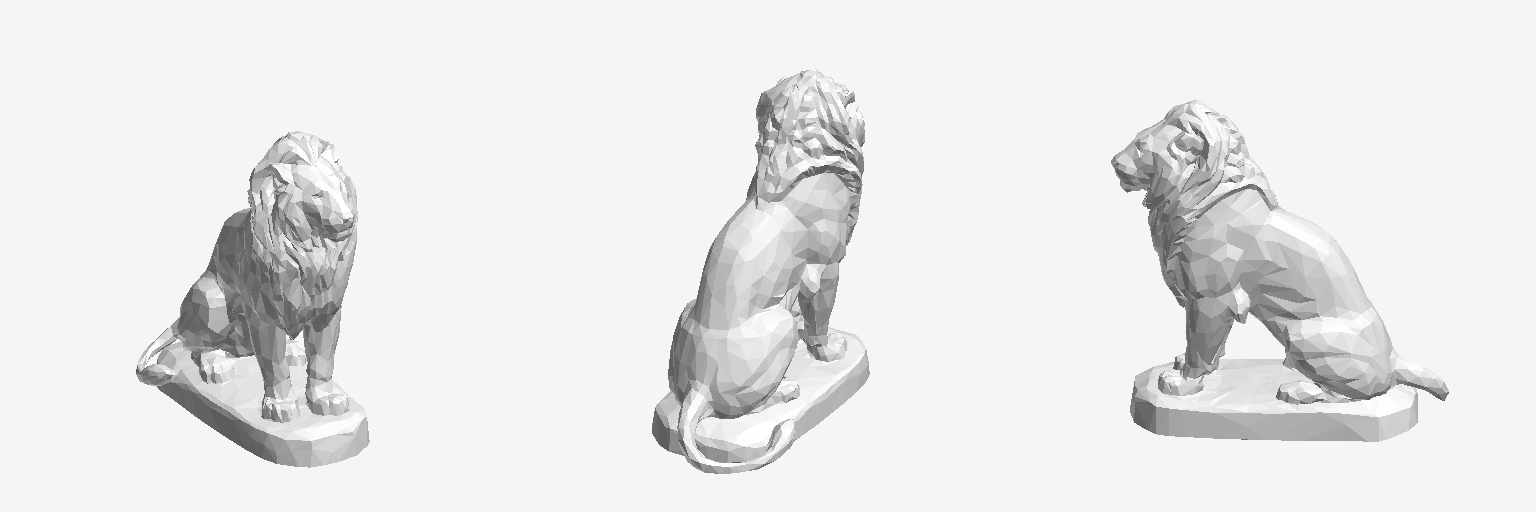
File: barye_lions_low.obj
3 renders of one model, left to right at view 1: azimuth 30°, elevation 25°; view 2: azimuth 150°, elevation 25°; view 3: azimuth 270°, elevation 25°, orthographic.
Parts seen in each view (by area): view 1: lion_texture_default.001; view 2: lion_texture_default.001; view 3: lion_texture_default.001.
Part boxes in pixels (left/top/right/bottom): lion_texture_default.001: left=136, top=131, right=369, bottom=467; lion_texture_default.001: left=652, top=68, right=869, bottom=473; lion_texture_default.001: left=1111, top=100, right=1448, bottom=441.
Size of the model in its own units: 2.42 by 5.27 by 5.28.